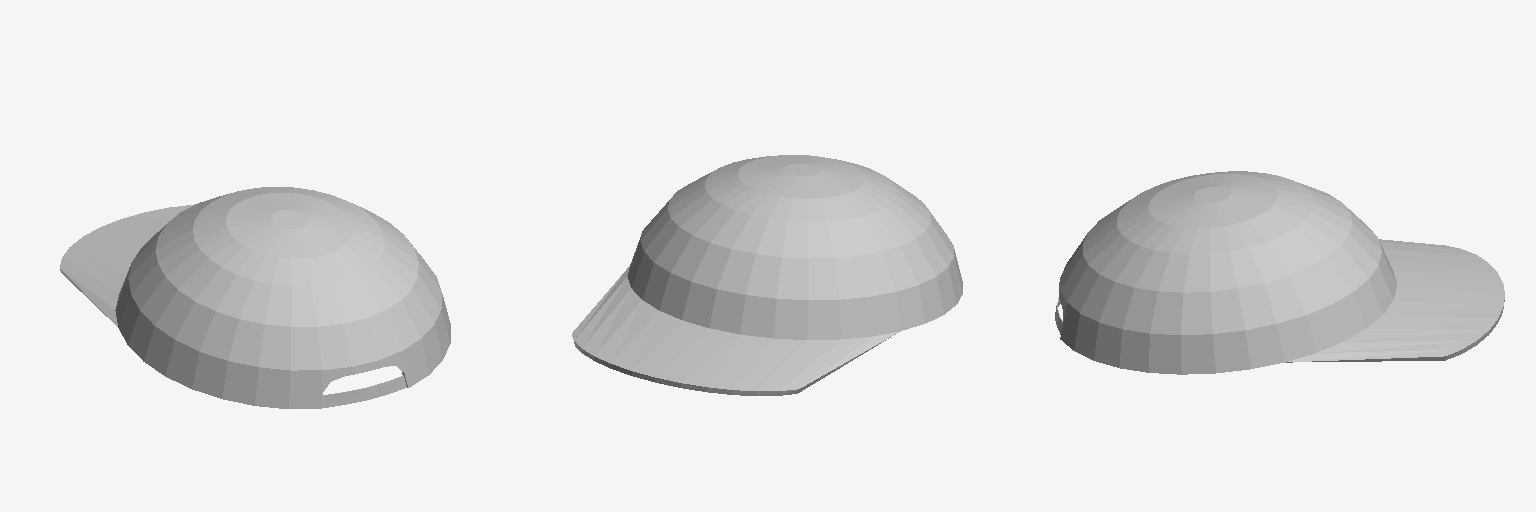
Rendered from cap.obj.
3 renders of one model, left to right at view 1: azimuth 30°, elevation 25°; view 2: azimuth 150°, elevation 25°; view 3: azimuth 270°, elevation 25°, orthographic.
Parts seen in each view (by area): view 1: Circle; view 2: Circle; view 3: Circle.
Boxes of the visible parts, <box> form: Circle: <box>60,187,450,408</box>; Circle: <box>572,155,962,395</box>; Circle: <box>1055,171,1504,374</box>.
Size of the model in its own units: 1.23 by 0.5181 by 1.67.